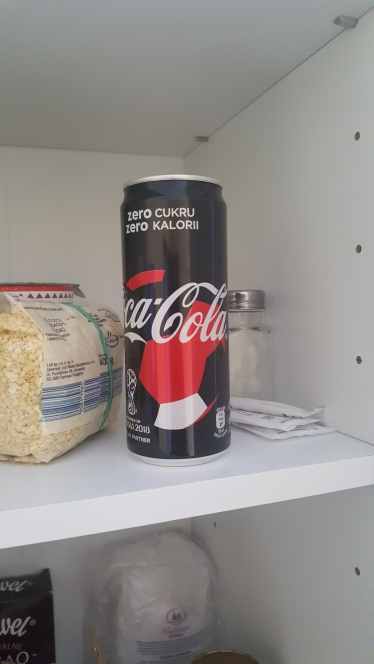colazero: (114, 164, 240, 475)
